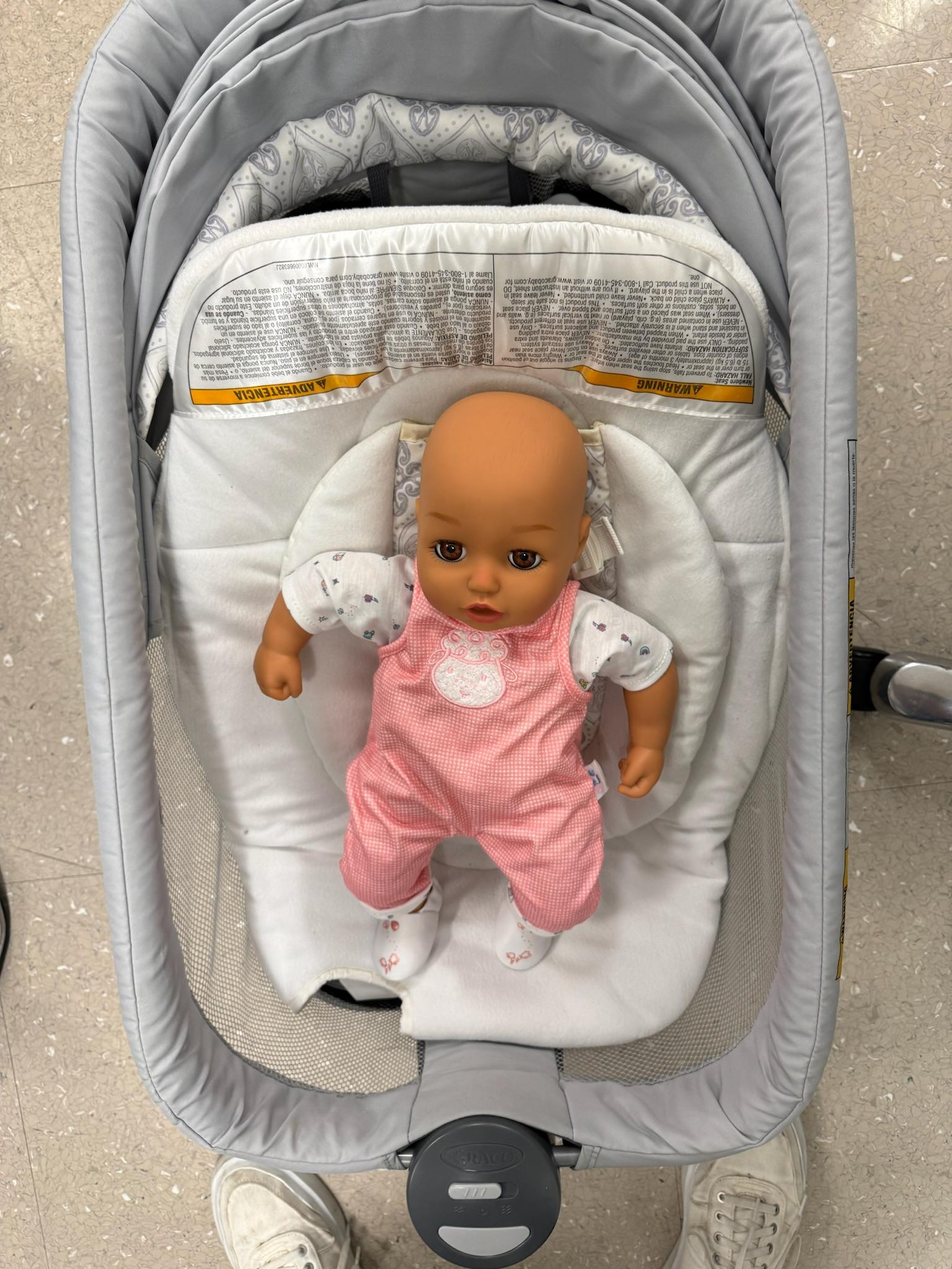baby: (247, 384, 688, 995)
